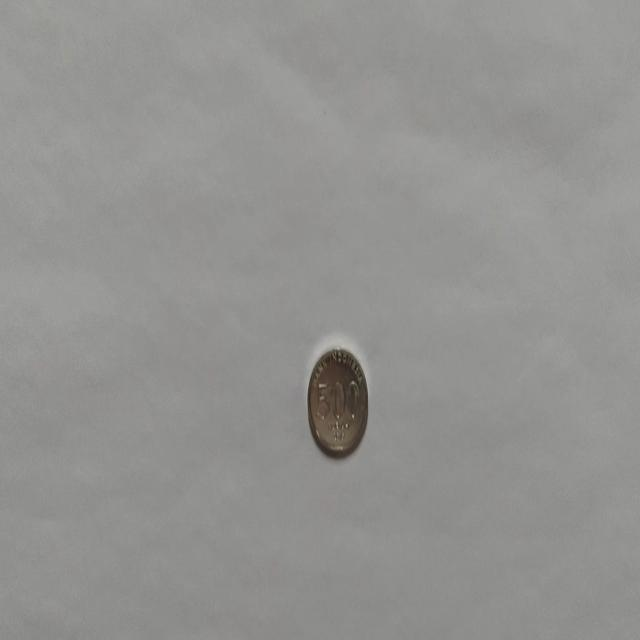lima ratus rupiah: (306, 345, 369, 457)
